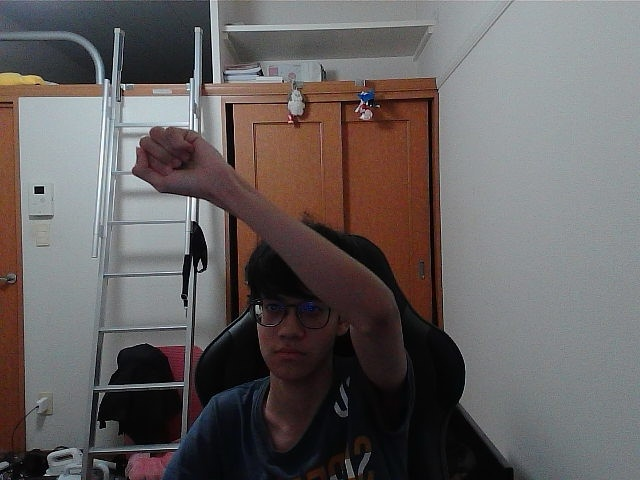closed_palm: (139, 130, 214, 188)
